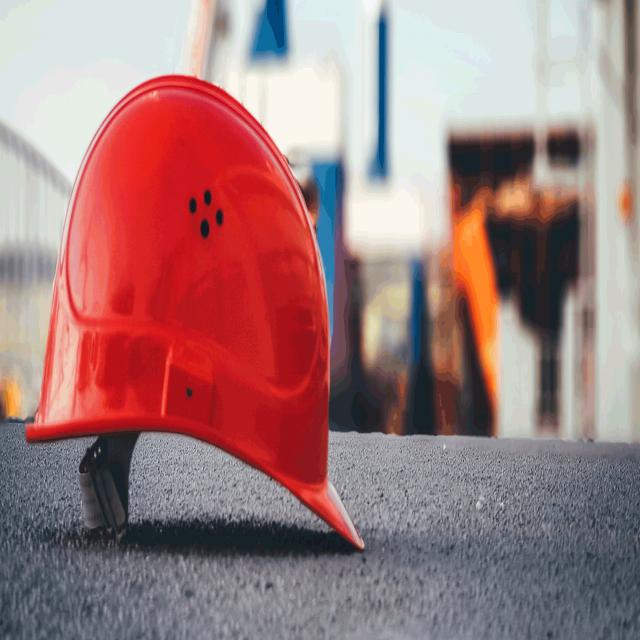Reflective-Jacket: (437, 183, 503, 413), (2, 373, 23, 420)
Safety-Helmet: (12, 65, 351, 522)
